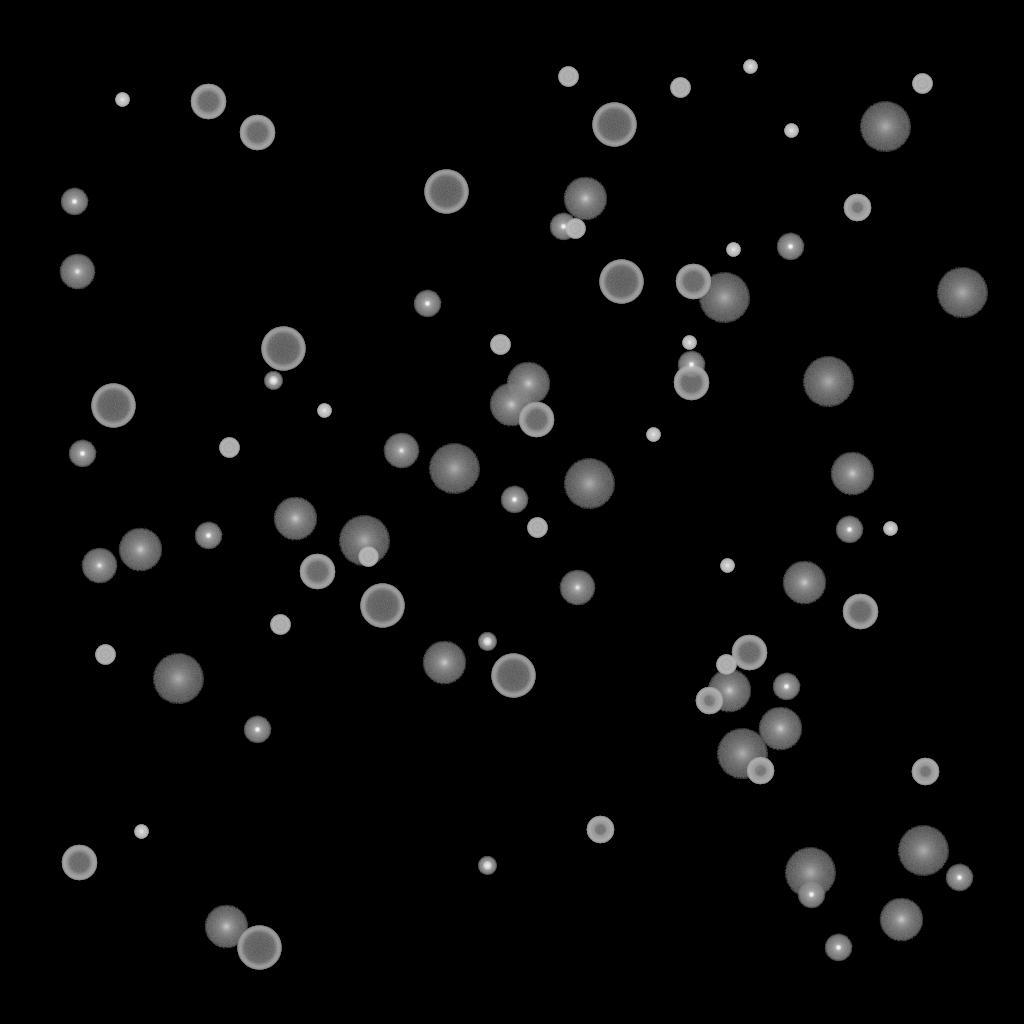depth:-10: (824, 934, 852, 962), (68, 440, 96, 468), (776, 233, 804, 261), (500, 486, 528, 514), (835, 516, 863, 544), (797, 881, 825, 909), (549, 213, 577, 241), (772, 673, 800, 701), (194, 522, 222, 550), (945, 864, 973, 892), (413, 290, 441, 318), (243, 716, 271, 744), (677, 351, 705, 379), (60, 188, 88, 216)
depth:-20: (478, 633, 496, 651), (478, 857, 496, 875), (264, 372, 282, 390)
depth:-30: (743, 60, 757, 74), (115, 93, 129, 107), (883, 522, 897, 536), (720, 559, 734, 573), (134, 825, 148, 839), (646, 428, 660, 442), (784, 124, 798, 138), (726, 243, 740, 257), (317, 404, 331, 418), (682, 336, 696, 350)
depth:-40: (270, 615, 290, 635), (490, 335, 510, 355), (716, 655, 736, 675), (95, 645, 115, 665), (558, 67, 578, 87), (358, 547, 378, 567), (219, 438, 239, 458), (912, 74, 932, 94), (527, 518, 547, 538), (565, 219, 585, 239), (670, 78, 690, 98)
depth:-50: (843, 194, 871, 222), (586, 816, 614, 844), (911, 758, 939, 786), (695, 687, 723, 715), (746, 757, 774, 785)
depth:-60: (842, 594, 878, 630), (239, 115, 275, 151), (675, 264, 711, 300), (731, 635, 767, 671), (61, 845, 97, 881), (673, 365, 709, 401), (518, 402, 554, 438), (190, 84, 226, 120), (299, 554, 335, 590)
depth:-70: (360, 584, 404, 628), (424, 170, 468, 214), (599, 260, 643, 304), (261, 327, 305, 371), (491, 654, 535, 698), (91, 384, 135, 428), (237, 926, 281, 970), (592, 103, 636, 147)
depth:0: (59, 254, 95, 290), (81, 548, 117, 584), (559, 570, 595, 606), (383, 433, 419, 469)
depth:10: (489, 383, 533, 427), (830, 452, 874, 496), (118, 528, 162, 572), (563, 177, 607, 221), (879, 898, 923, 942), (782, 561, 826, 605), (758, 707, 802, 751), (204, 905, 248, 949), (422, 641, 466, 685), (707, 669, 751, 713), (506, 362, 550, 406), (273, 497, 317, 541)
depth:20: (563, 459, 615, 509), (338, 516, 390, 566), (936, 268, 988, 318), (897, 826, 949, 876), (859, 102, 911, 152), (784, 848, 836, 898), (428, 444, 480, 494), (802, 357, 854, 407), (716, 729, 768, 779), (152, 654, 204, 704), (698, 273, 750, 323)
